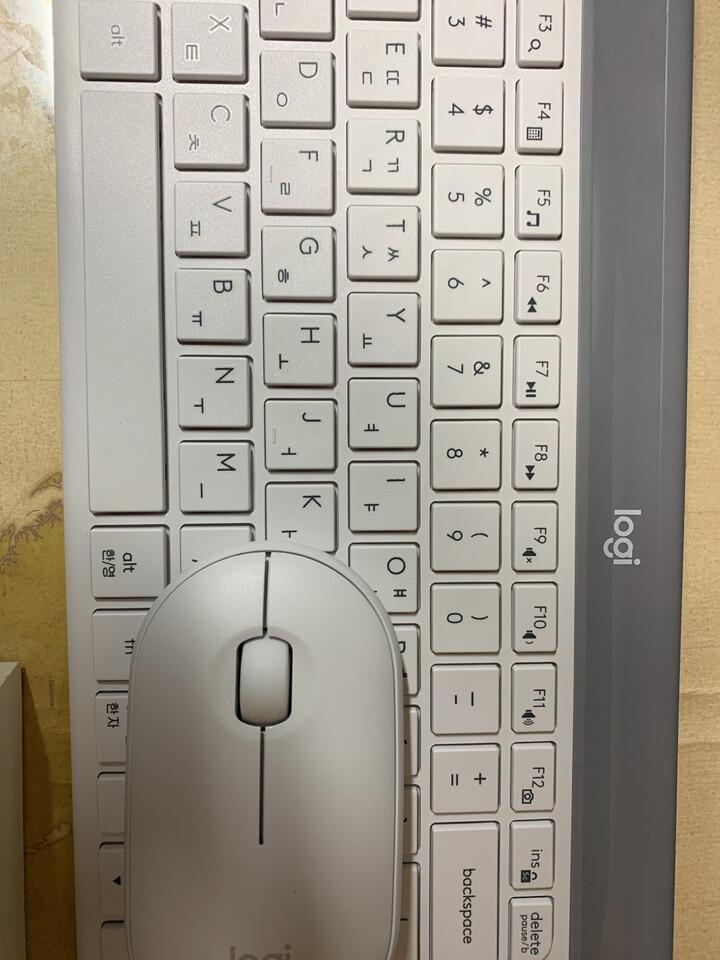keyboard: (51, 0, 692, 959)
mouse: (121, 539, 407, 958)
